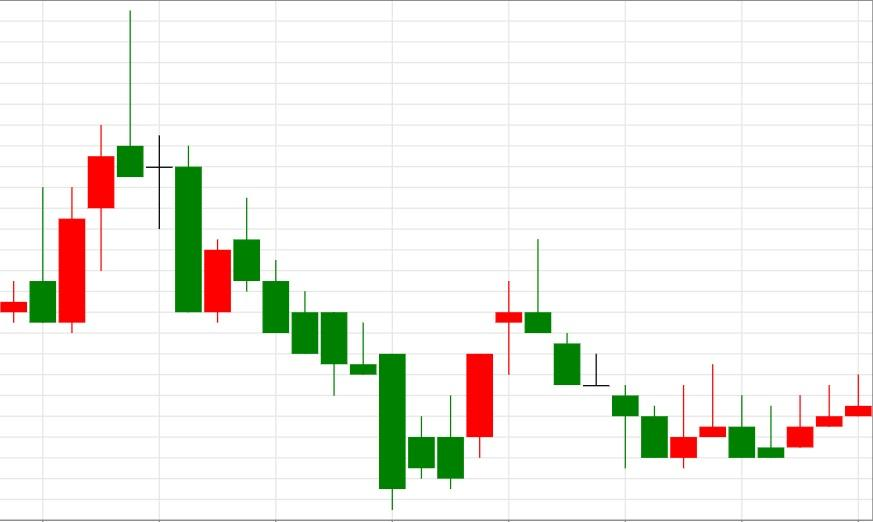shooting_star_fall: (378, 239, 552, 509), (28, 11, 144, 333)
